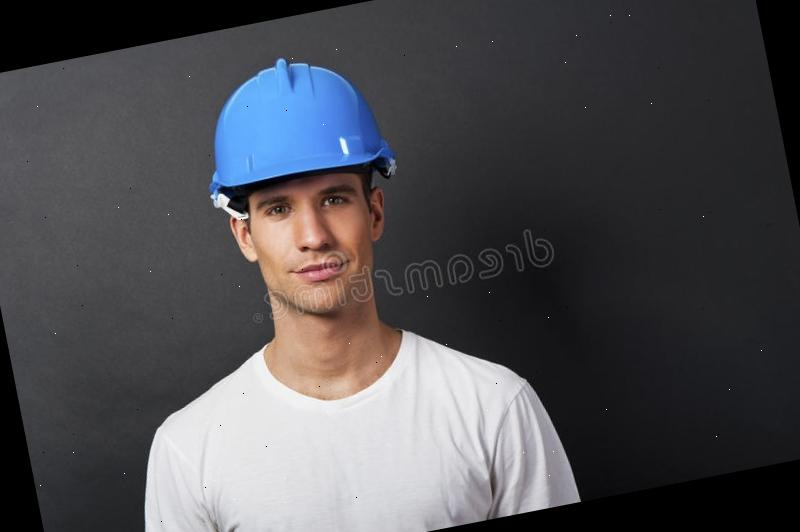helmet: (188, 42, 405, 210)
no_wear: (135, 319, 558, 532)
